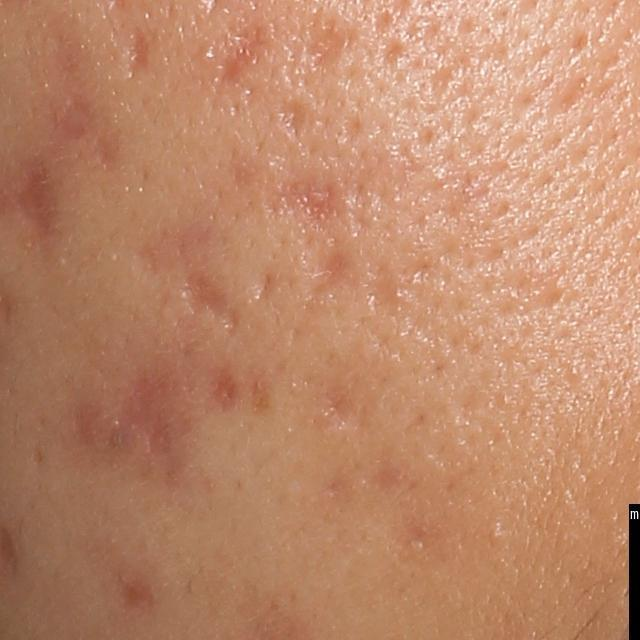atrophic_scar: (130, 218, 242, 341), (61, 80, 121, 176), (264, 172, 345, 232), (1, 160, 61, 238), (205, 13, 269, 82), (122, 377, 171, 462), (301, 13, 354, 80), (364, 260, 404, 319), (549, 72, 596, 118), (308, 248, 345, 302), (274, 99, 310, 144), (322, 388, 359, 430), (121, 27, 149, 81), (380, 40, 405, 77), (247, 271, 274, 302)
